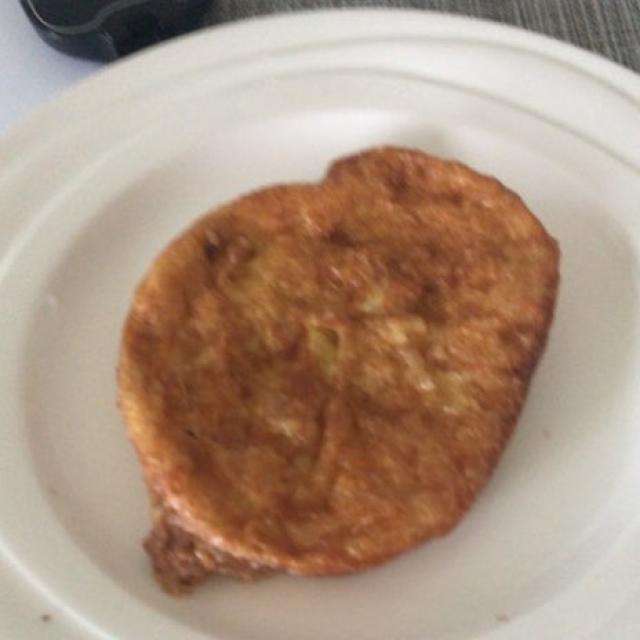bread: (117, 151, 557, 573)
